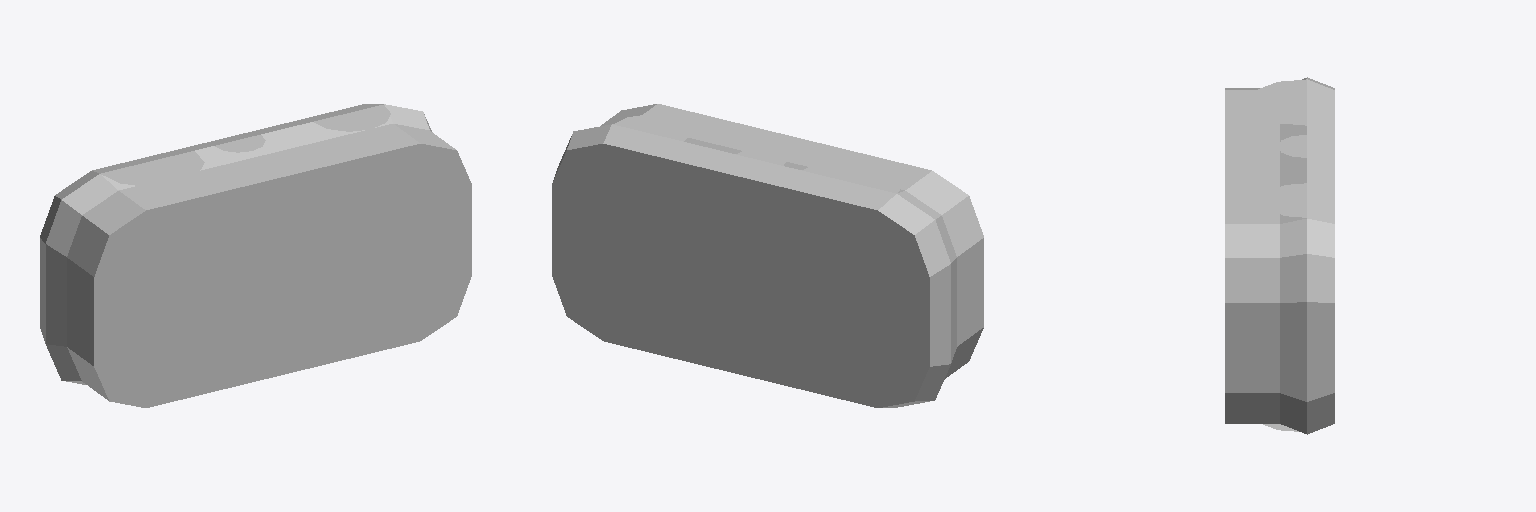
The model's file is block-snow-overhang-low-long.obj.
3 renders of one model, left to right at view 1: azimuth 30°, elevation 25°; view 2: azimuth 150°, elevation 25°; view 3: azimuth 270°, elevation 25°, orthographic.
Visible parts, largest first — view 1: block-snow-overhang-low-long; view 2: block-snow-overhang-low-long; view 3: block-snow-overhang-low-long.
Boxes of the visible parts, x1=… form: block-snow-overhang-low-long: x1=40, y1=104, x2=471, y2=407; block-snow-overhang-low-long: x1=552, y1=104, x2=983, y2=407; block-snow-overhang-low-long: x1=1225, y1=77, x2=1334, y2=434.
Size of the model in its own units: 2.08 by 1.08 by 0.5.